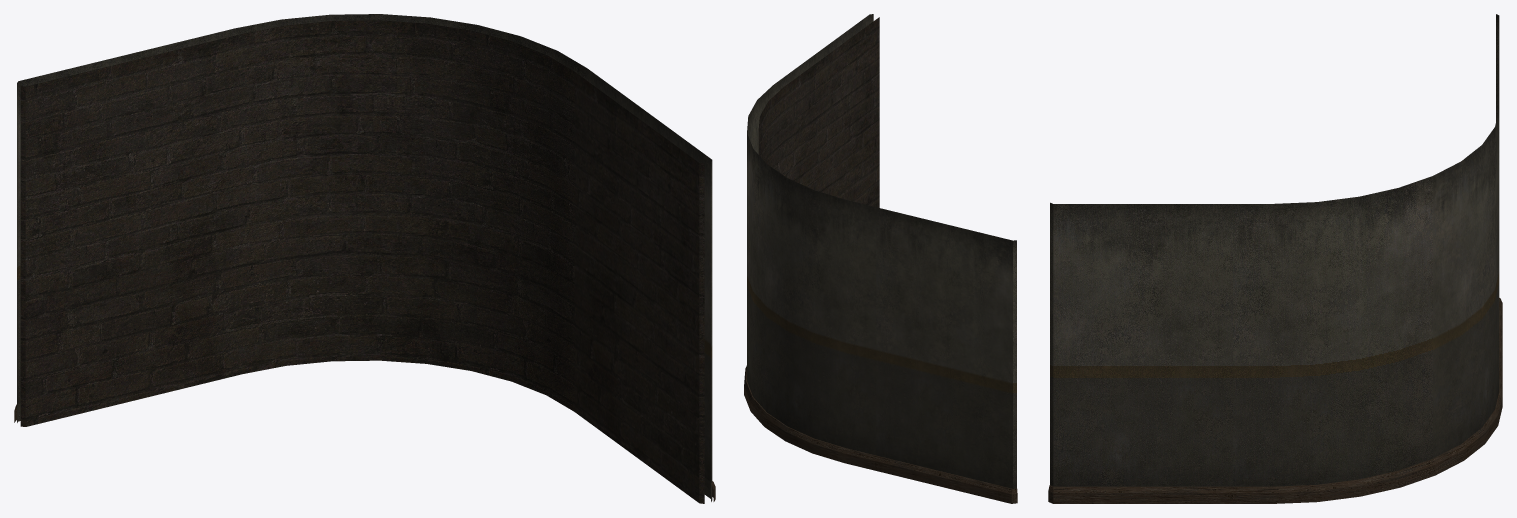
File: wall_1_rounded_corner_1_1.glb
The picture shows the model from 3 angles, left to right: view 1: azimuth 30°, elevation 25°; view 2: azimuth 150°, elevation 25°; view 3: azimuth 270°, elevation 25°; orthographic projection. The views are drawn at different scales.
Parts seen in each view (by area): view 1: wall_1_rounded_corner_1_1; view 2: wall_1_rounded_corner_1_1; view 3: wall_1_rounded_corner_1_1.
Boxes of the visible parts, box(x1,y1,x2,y2) form: wall_1_rounded_corner_1_1: box(14, 14, 715, 503); wall_1_rounded_corner_1_1: box(744, 14, 1017, 503); wall_1_rounded_corner_1_1: box(1048, 14, 1502, 503).
Size of the model in its own units: 4.14 by 3 by 4.14.
3 materials, 3 textured.
